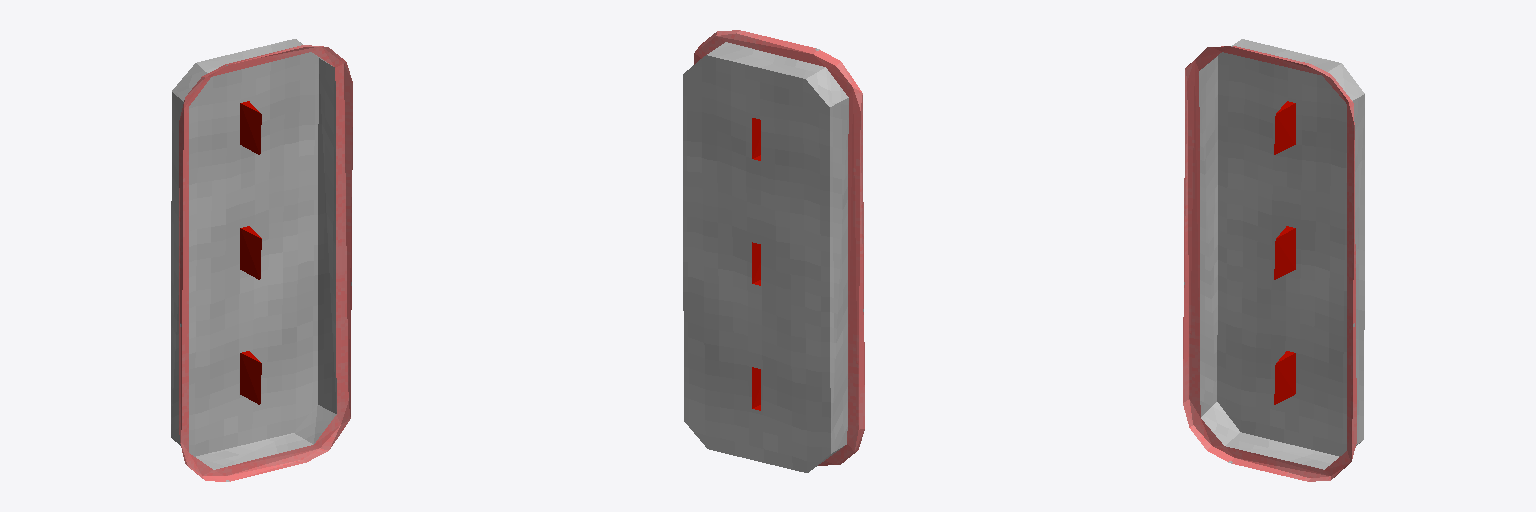
3 renders of one model, left to right at view 1: azimuth 30°, elevation 25°; view 2: azimuth 150°, elevation 25°; view 3: azimuth 330°, elevation 25°, orthographic.
Parts seen in each view (by area): view 1: Cube; view 2: Cube; view 3: Cube.
Part boxes in pixels (x1,y1,x2,y2): Cube: (171, 39, 352, 481); Cube: (683, 30, 864, 472); Cube: (1183, 39, 1364, 481).
Size of the model in its own units: 0.4319 by 1 by 0.0981.
5 materials, 2 textured.